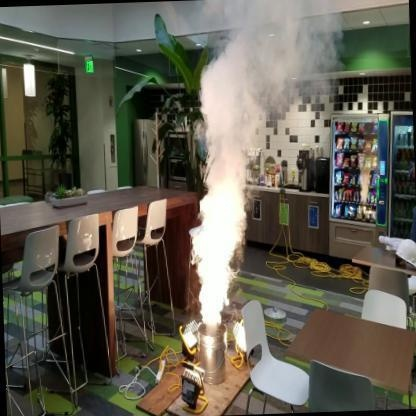smoke: (194, 177, 239, 321)
